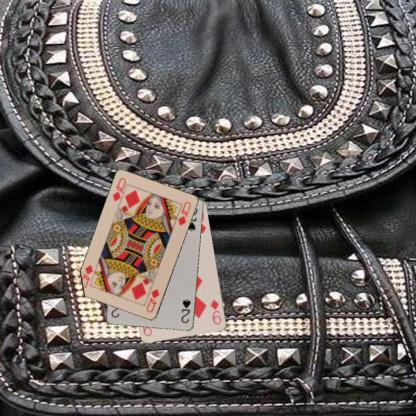2s: (178, 296, 192, 325)
9d: (208, 297, 222, 326)
Qd: (110, 175, 129, 206), (144, 286, 160, 314)
